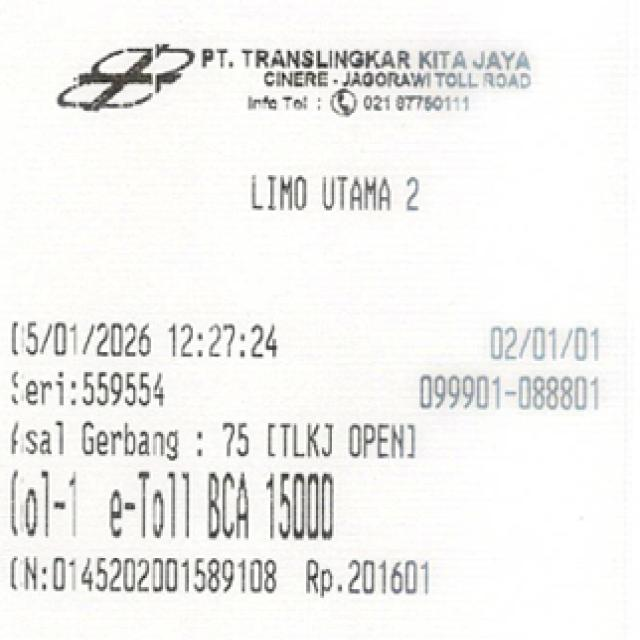date: (5, 313, 286, 366)
store: (194, 36, 546, 73)
total: (263, 466, 343, 546)
